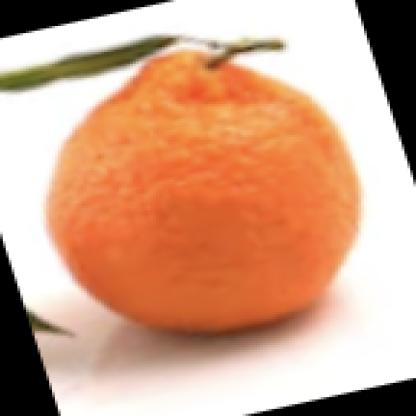fresh: (46, 51, 358, 339)
